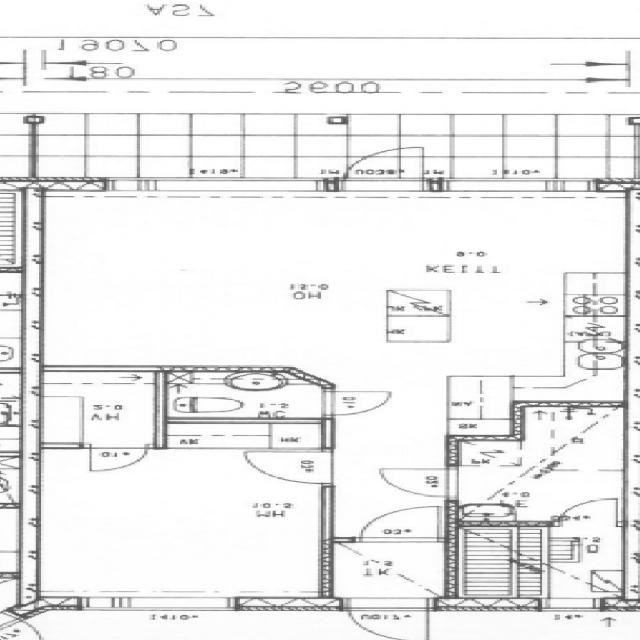door: (343, 144, 425, 192), (348, 597, 429, 640), (241, 450, 334, 484), (362, 505, 440, 543), (378, 468, 459, 496), (88, 444, 150, 474), (560, 496, 619, 526), (322, 391, 393, 415)
